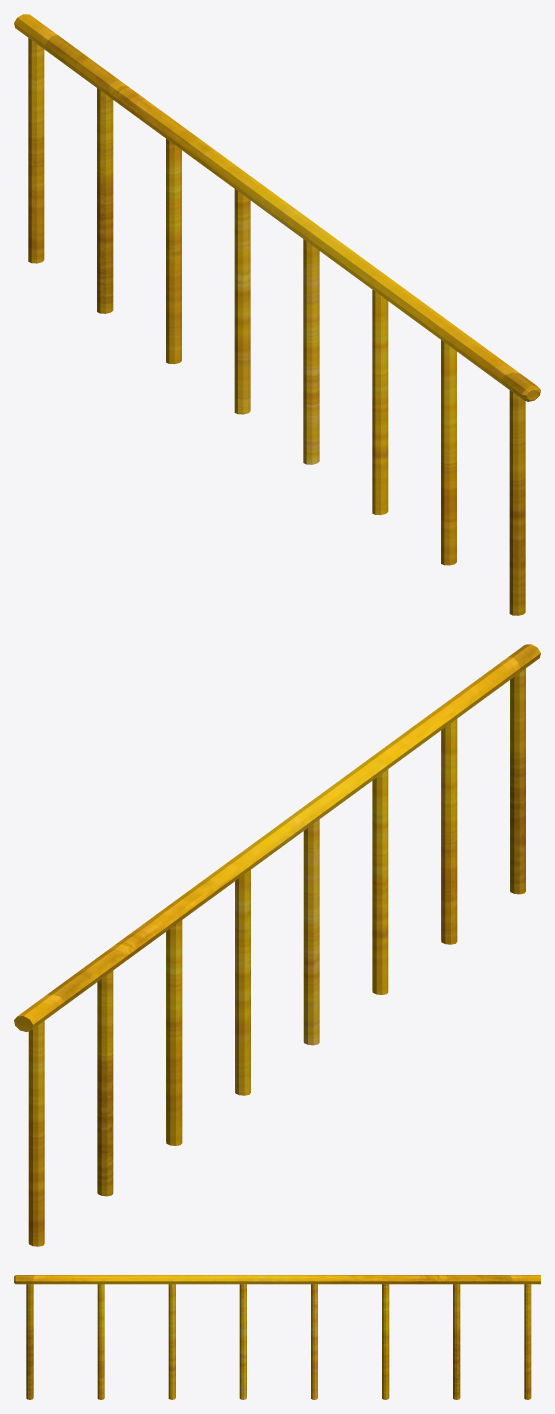
Rendered from Corrimao.fbx.
3 views of the same model, one above another, from view 1: azimuth 30°, elevation 25°; view 2: azimuth 150°, elevation 25°; view 3: azimuth 270°, elevation 25° (orthographic). The views are drawn at different scales.
Parts seen in each view (by area): view 1: Corrimao; view 2: Corrimao; view 3: Corrimao.
Boxes of the visible parts, bbox=[...] form: Corrimao: bbox=[14, 14, 540, 615]; Corrimao: bbox=[14, 644, 540, 1246]; Corrimao: bbox=[14, 1275, 540, 1399].
Size of the model in its own units: 8.87 by 105 by 410.
